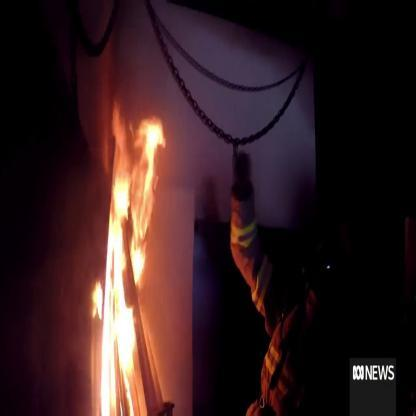fire: (63, 107, 175, 416)
